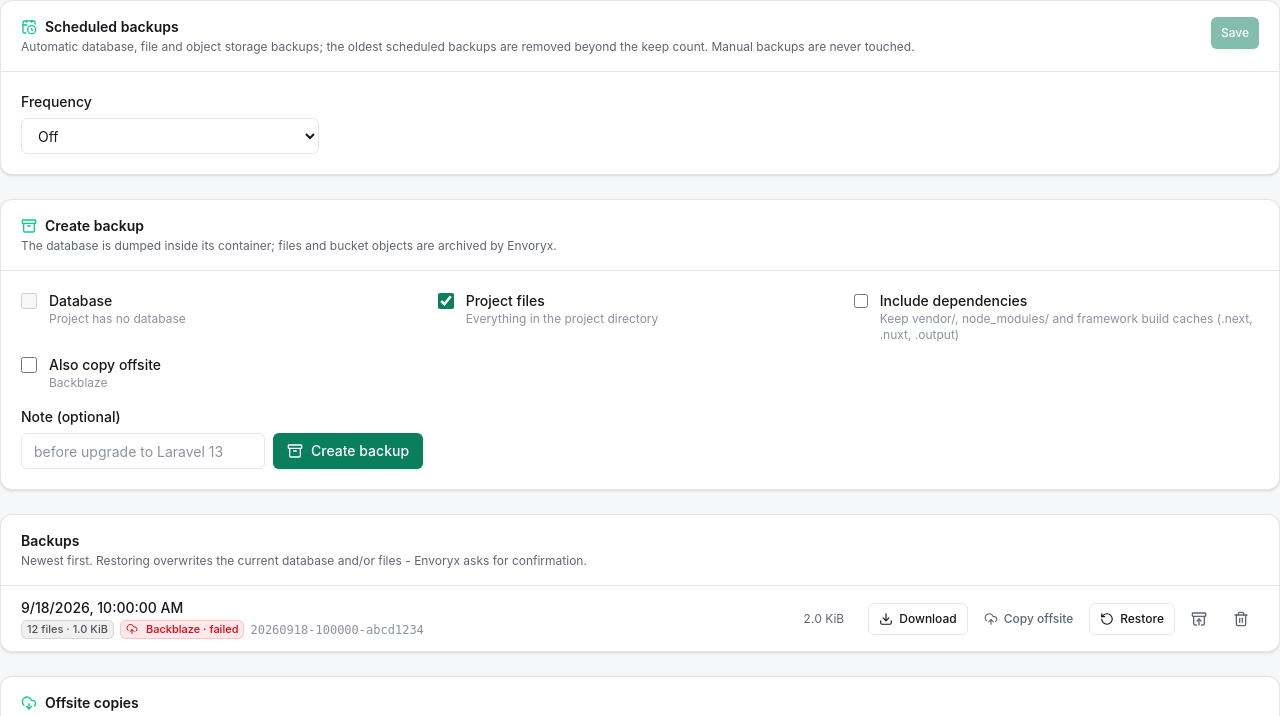
Scenario: offsite copies of project backups › offers the offsite copy when creating and shows a failed upload
expect the text "Backblaze · failed" is shown: met, box [120,620,244,639]
Click the checkbox labelled "Also copy offsite Backblaze" at (29, 365), box [21,357,37,373]
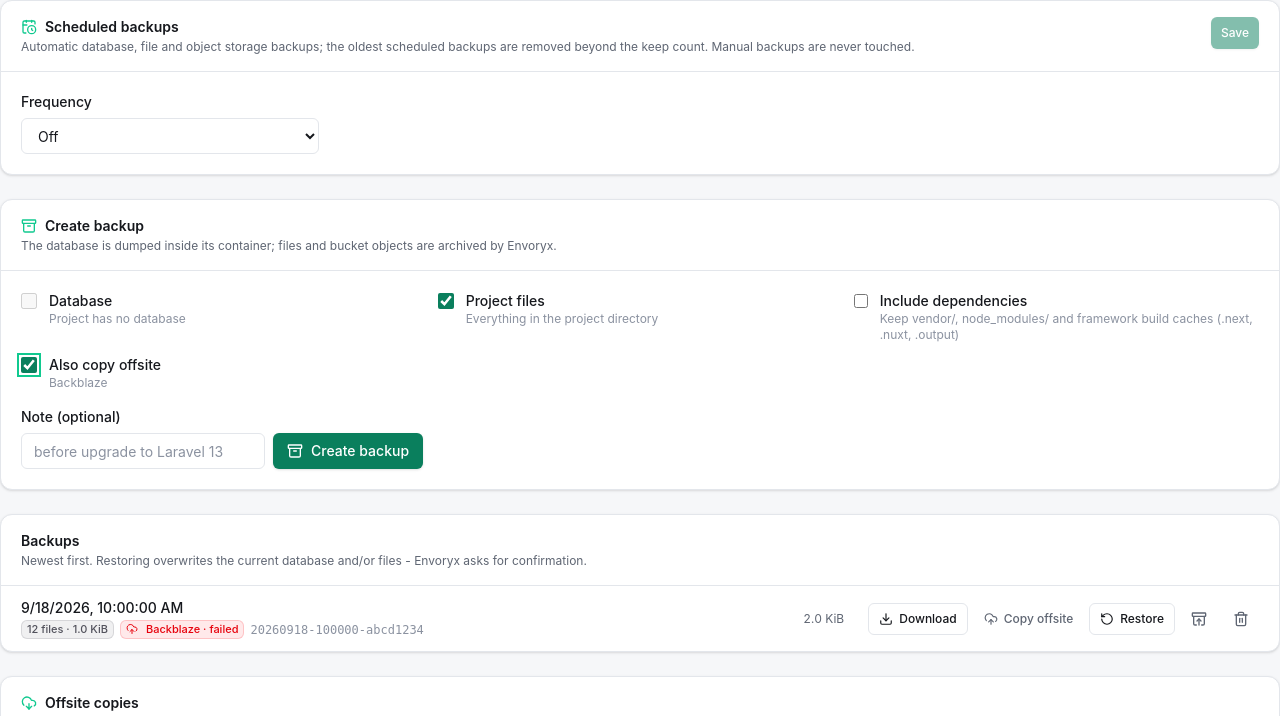
Click the button "Create backup" at (348, 451), box [273,433,423,469]
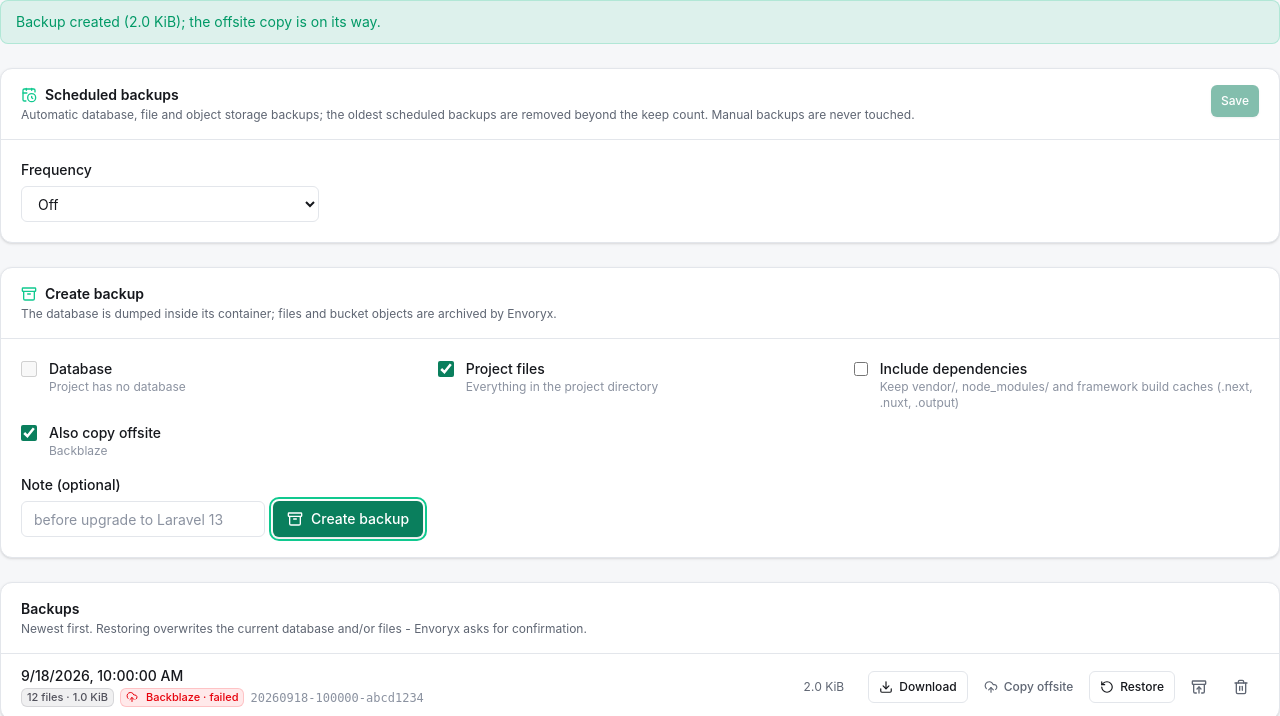
expect the text "Backup created (2.0 KiB); the offsite copy is on its way." is shown: met, box [16,13,381,30]
